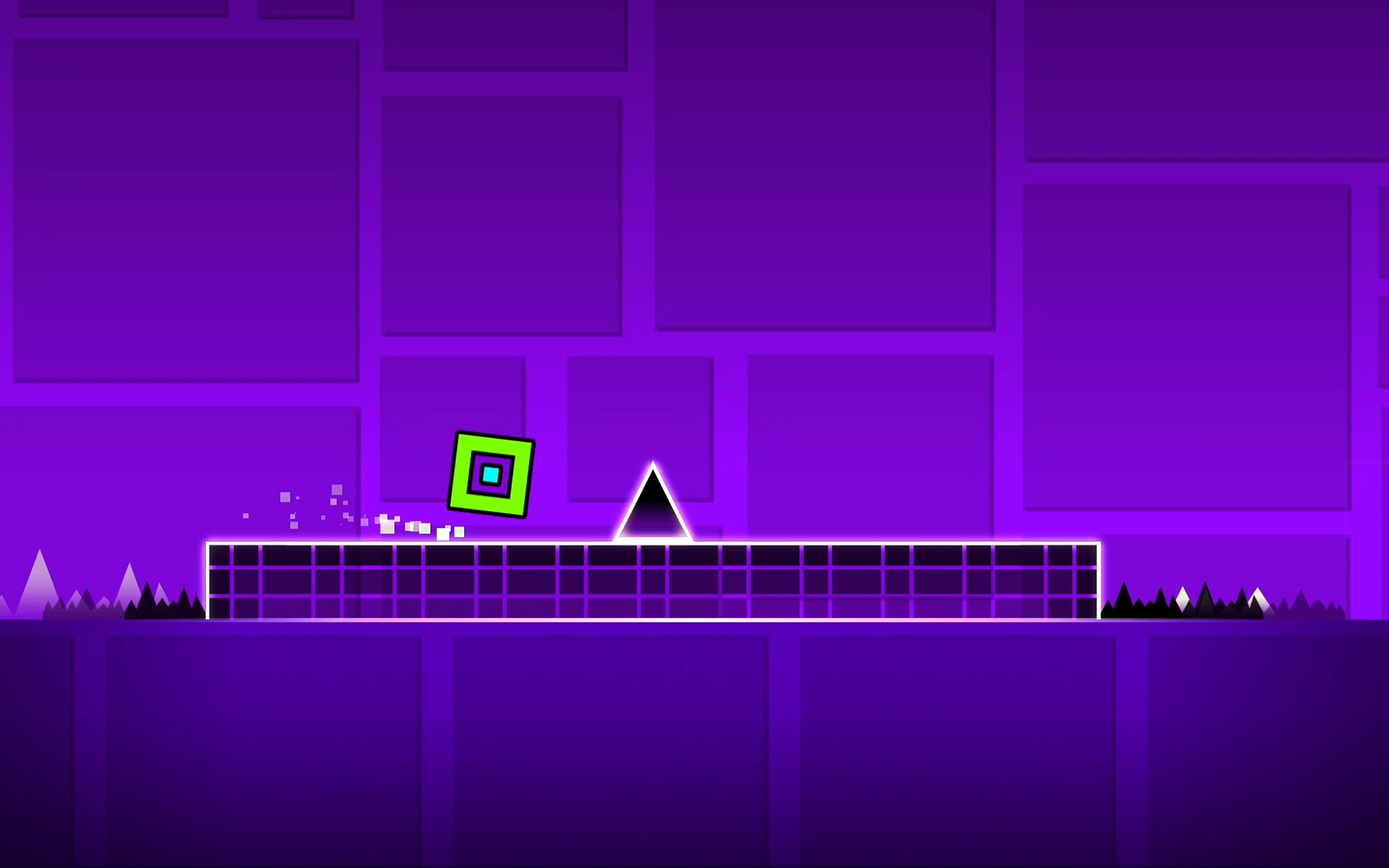Block2: (206, 540, 1098, 617)
Player: (449, 431, 533, 517)
Spike: (615, 462, 691, 538)
Spike3: (1101, 584, 1354, 622), (1, 582, 207, 622)
